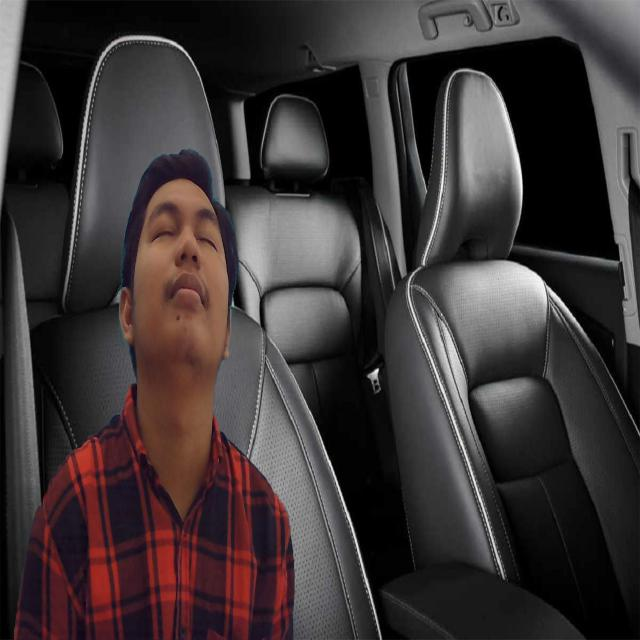no-seatbelt: (132, 158, 235, 394)
